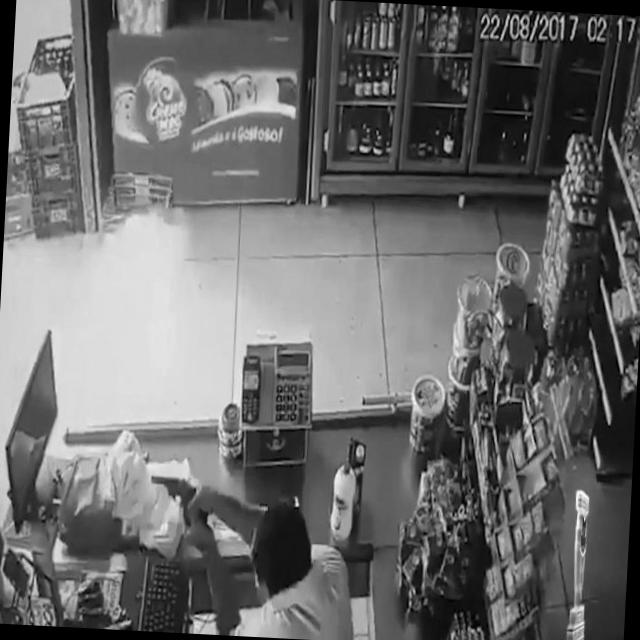gun: (146, 472, 214, 546)
person with a gun: (136, 459, 370, 640)
